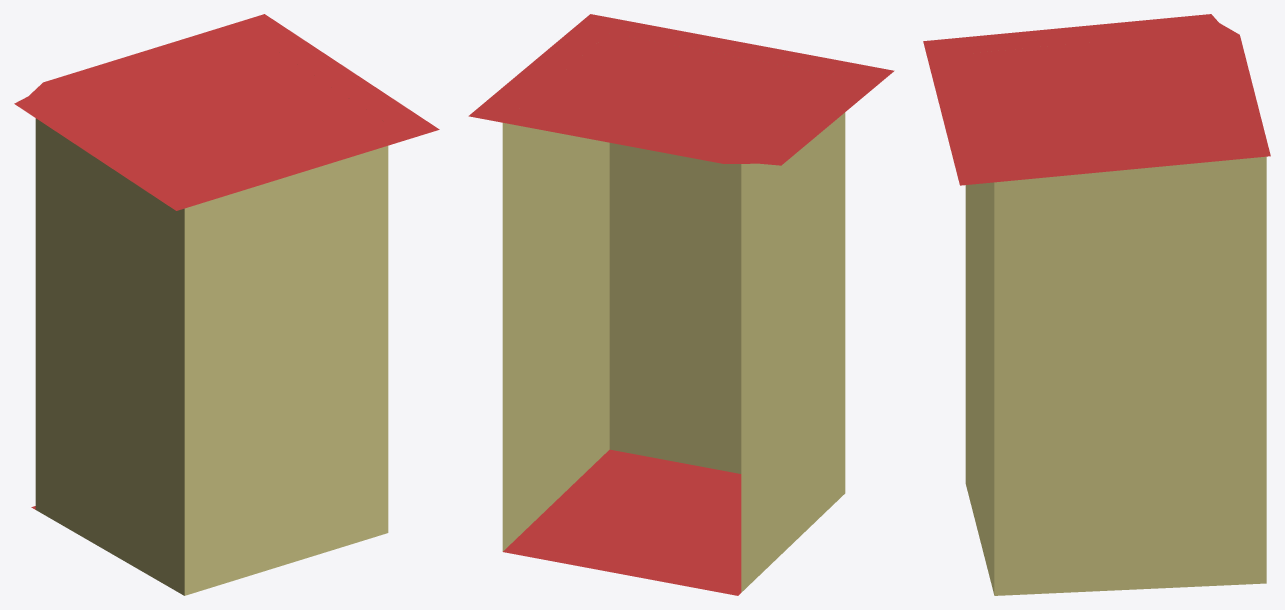
3 views of the same model, side by side, from view 1: azimuth 30°, elevation 25°; view 2: azimuth 150°, elevation 25°; view 3: azimuth 270°, elevation 25° (orthographic). The views are drawn at different scales.
Bounding box in the file's own units: 4.8 × 4.48 × 6.3.
